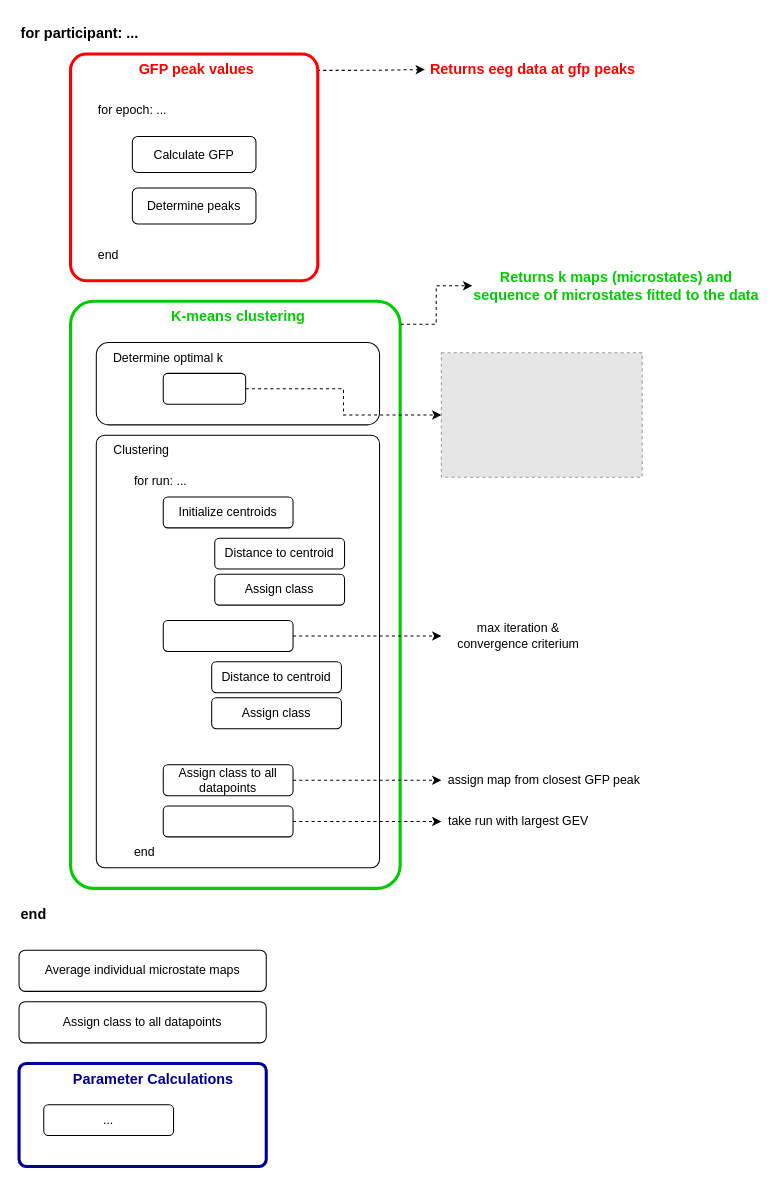
Image size: 779x1186. Some labels were removed from this diagram. Grey dashed boxes stand in for pictures. The centre of each missing label's shape, as x and y in pixels:
Calculate GEV: (x=227, y=821)
Criterion: (x=204, y=388)
Define new centroids: (x=227, y=635)
